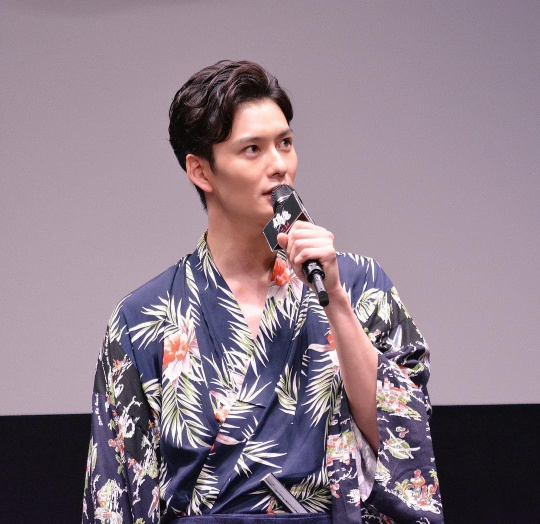male: (148, 57, 312, 251)
